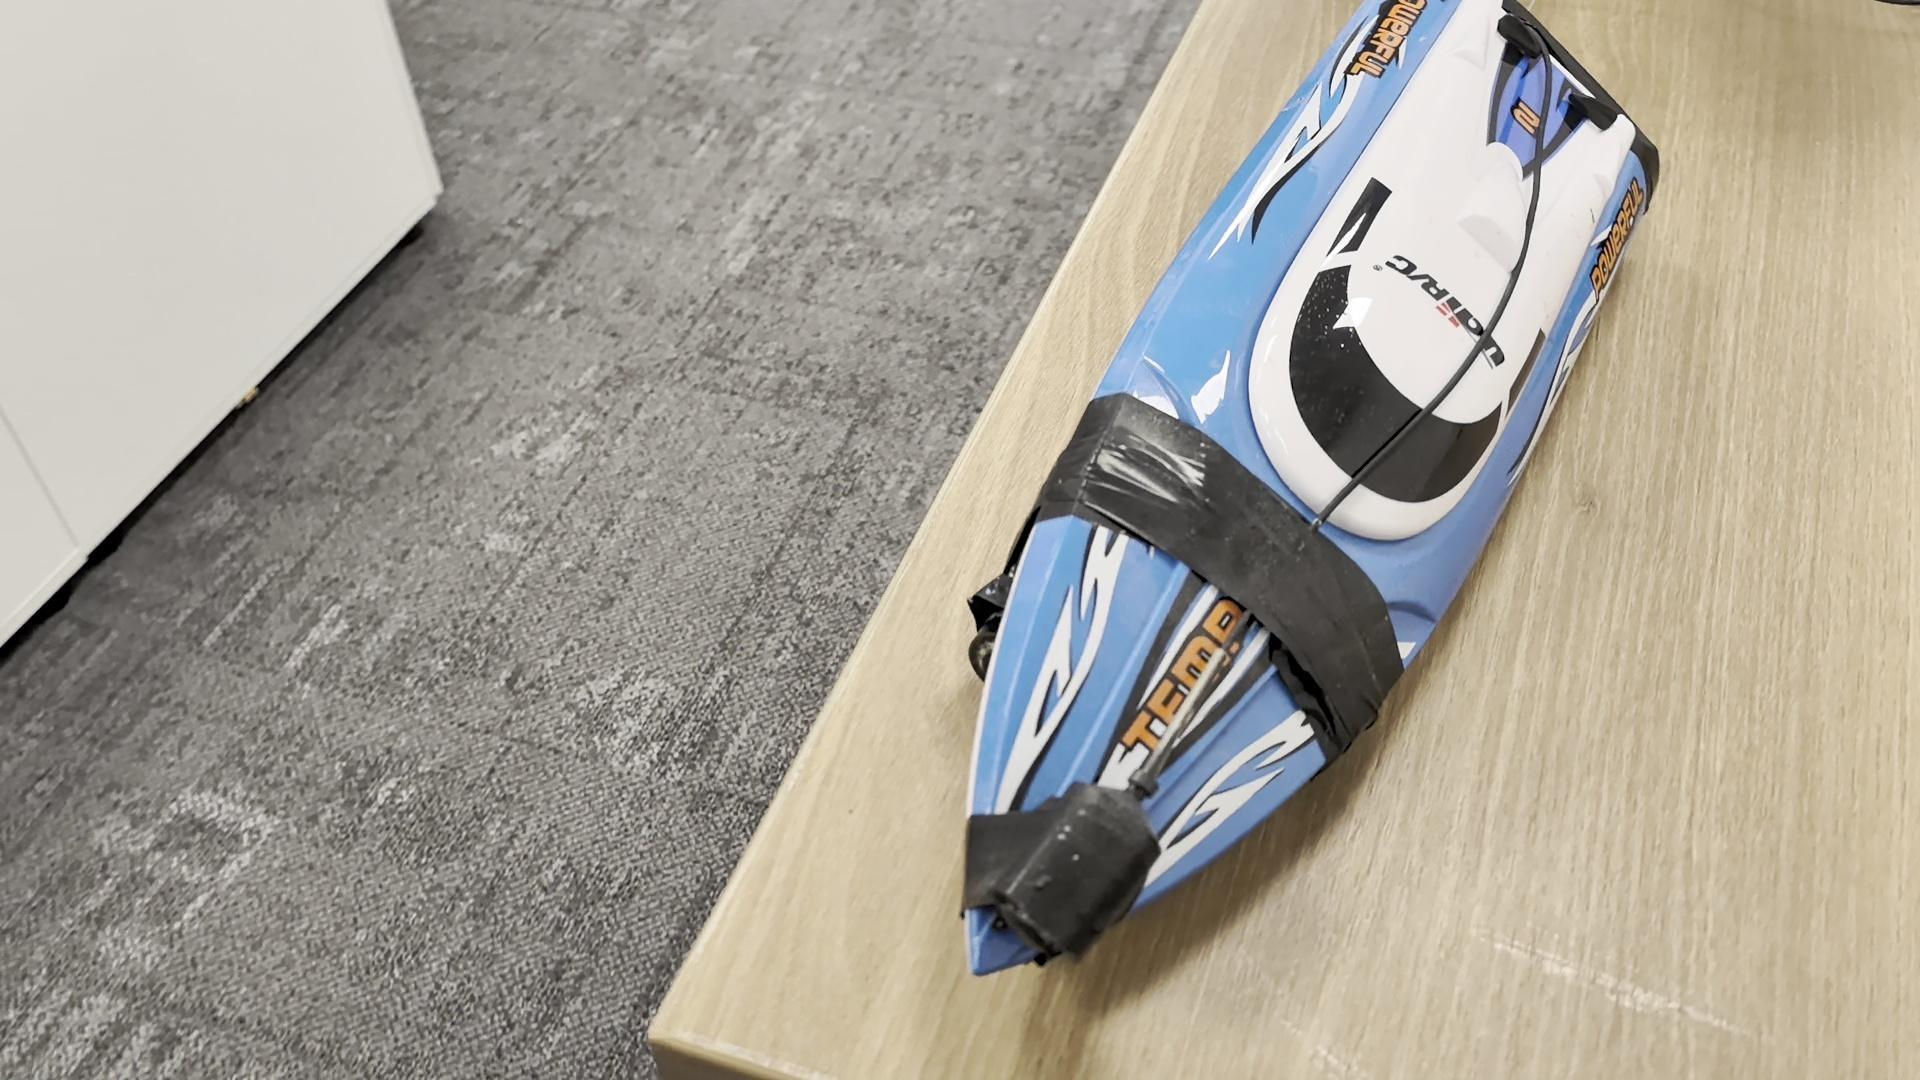Boat: (953, 3, 1662, 978)
